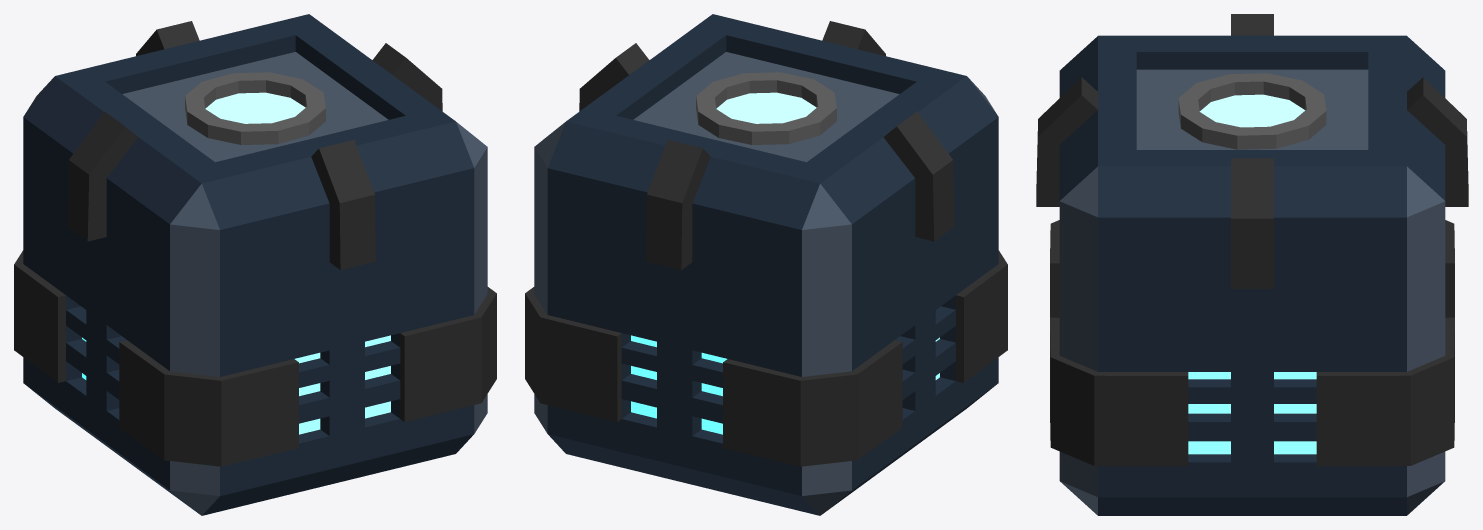
File: Crate.fbx
The picture shows the model from 3 angles, left to right: view 1: azimuth 30°, elevation 25°; view 2: azimuth 150°, elevation 25°; view 3: azimuth 270°, elevation 25°; orthographic projection. The views are drawn at different scales.
Parts seen in each view (by area): view 1: Cube; view 2: Cube; view 3: Cube.
Part boxes in pixels (x1,y1,x2,y2): Cube: (14, 14, 496, 515); Cube: (525, 14, 1007, 515); Cube: (1036, 14, 1468, 515).
Bounding box in the file's own units: 231 × 215 × 231.
